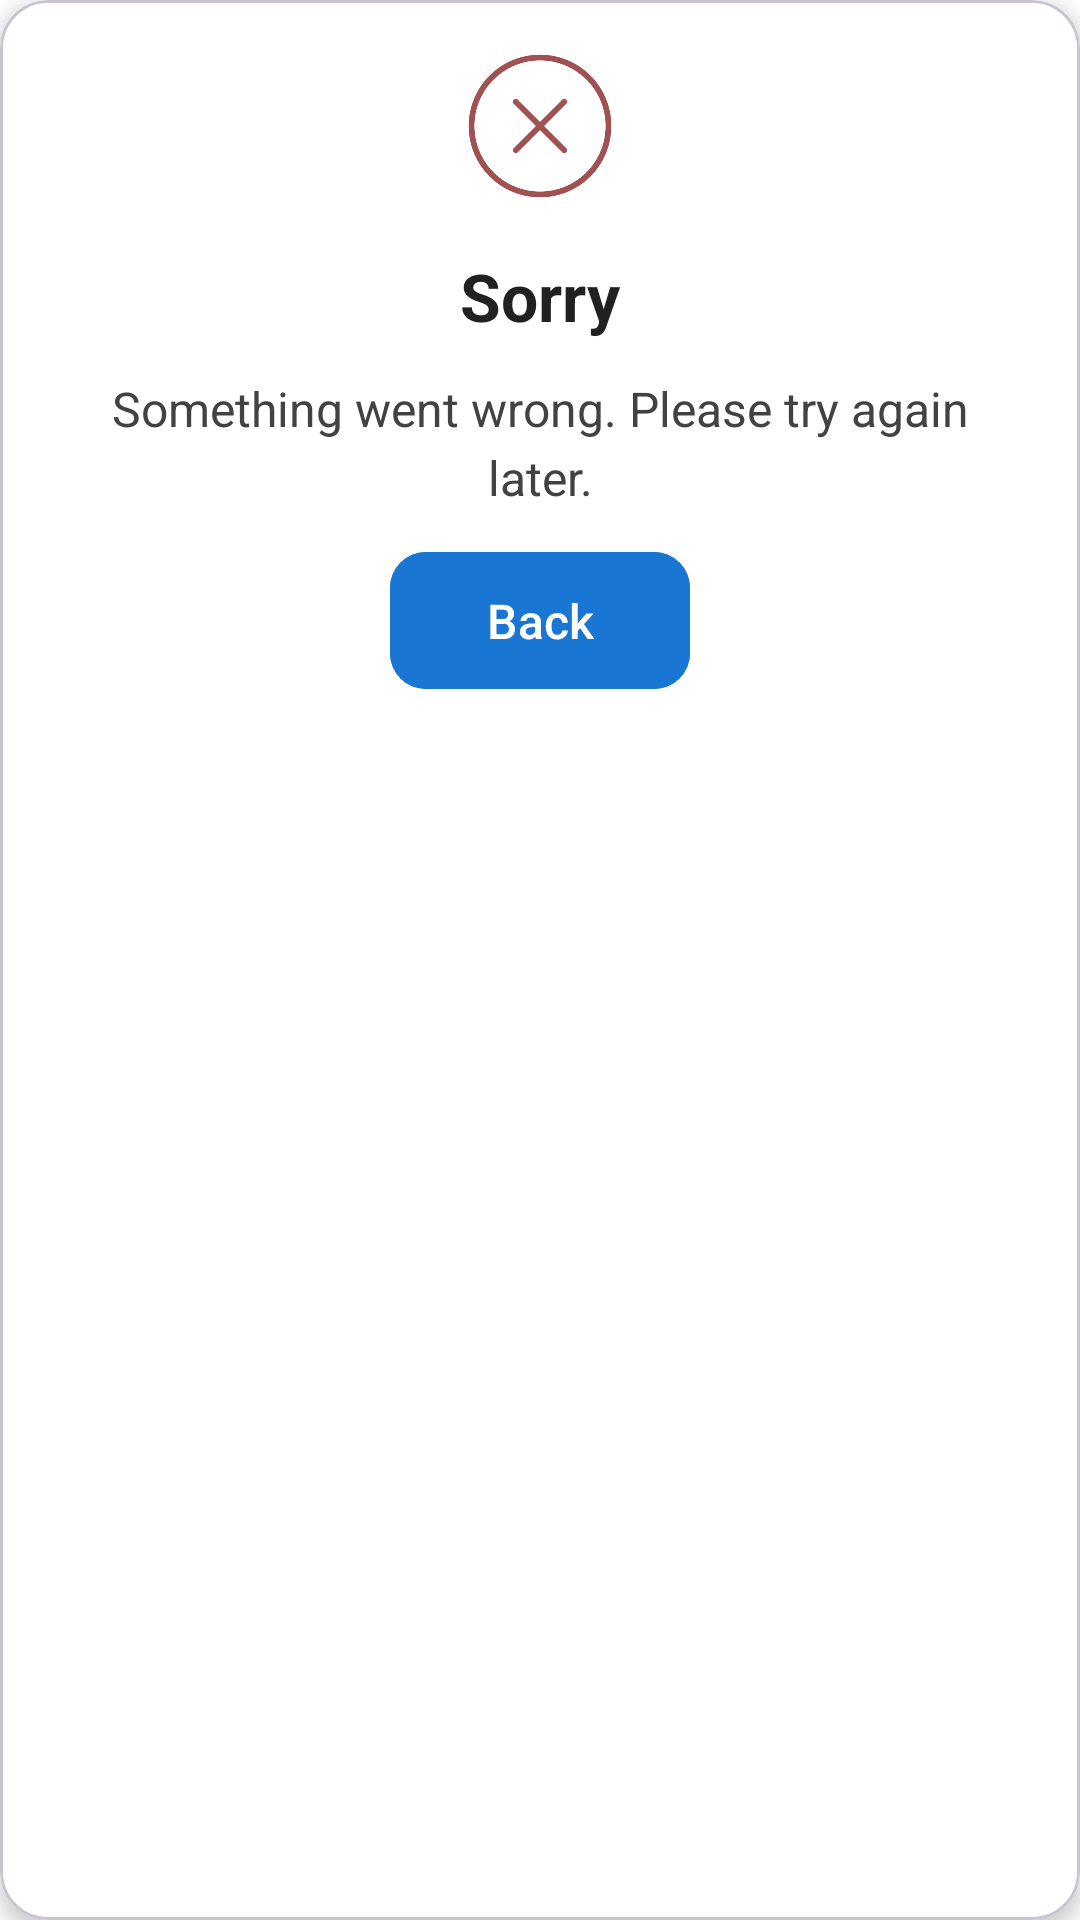

Icons on this 1080px×1920px Android screen, each with its box as (x1, y1, x2, y2):
Error Icon: (468, 55, 612, 198)
